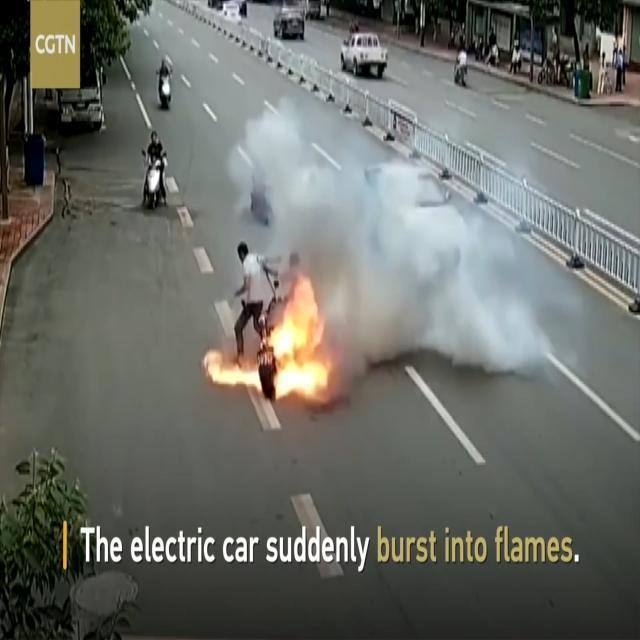fire: (200, 269, 338, 400)
